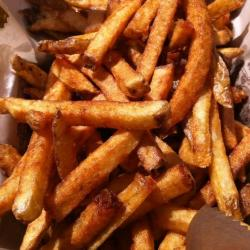fries: (45, 28, 221, 207)
